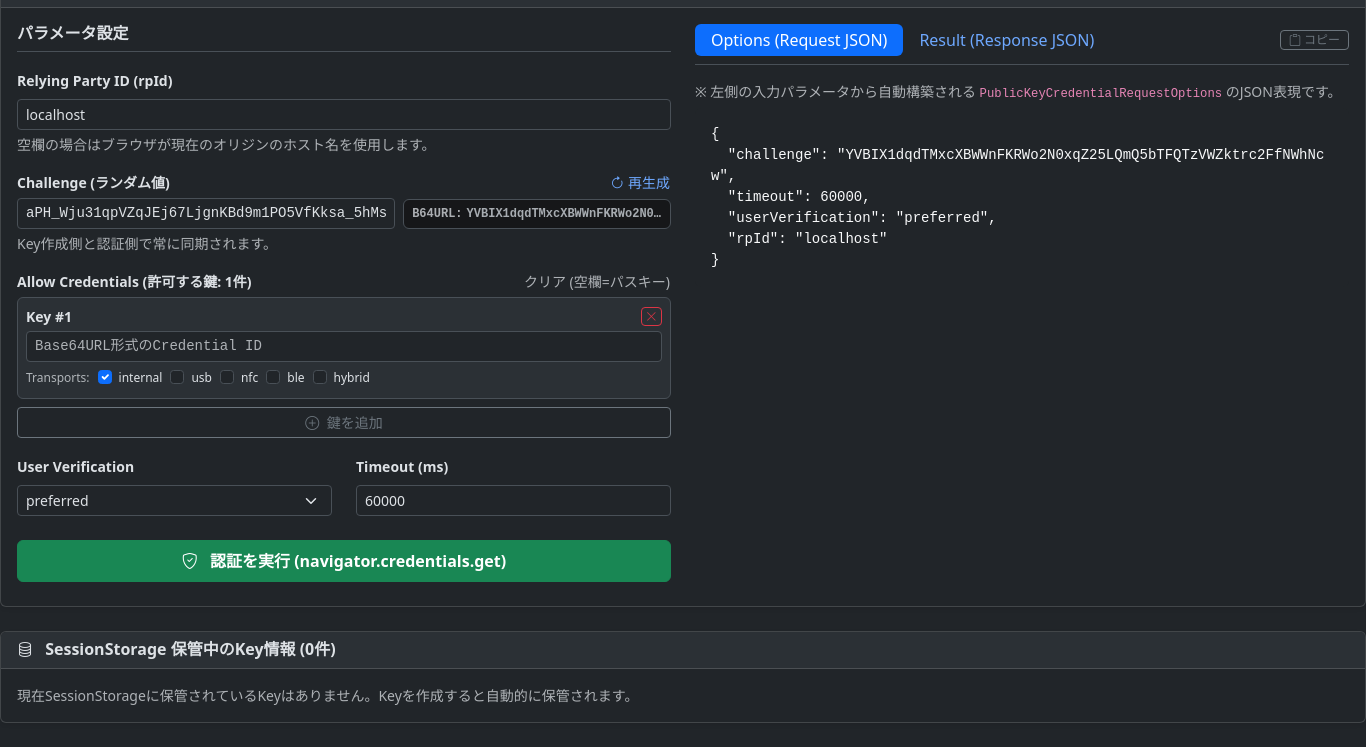
Scenario: DevelopFido.vue › handles authentication error
(page scrolled)
Click the button with id "btnGetCredential". click: [344, 561]
box: [17,540,671,582]
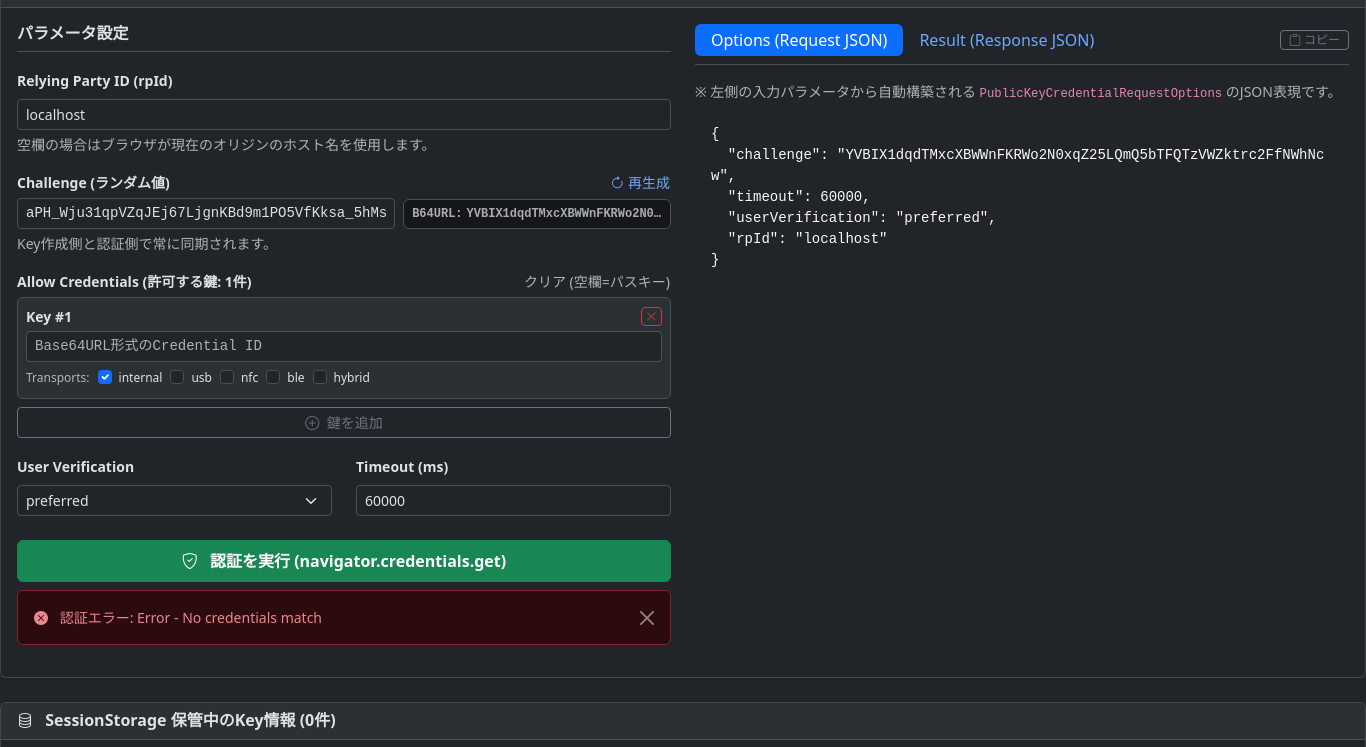
Now the text "認証エラー" is shown, box [56,608,322,627]
Now the text "No credentials match" is shown, box [56,608,322,627]
